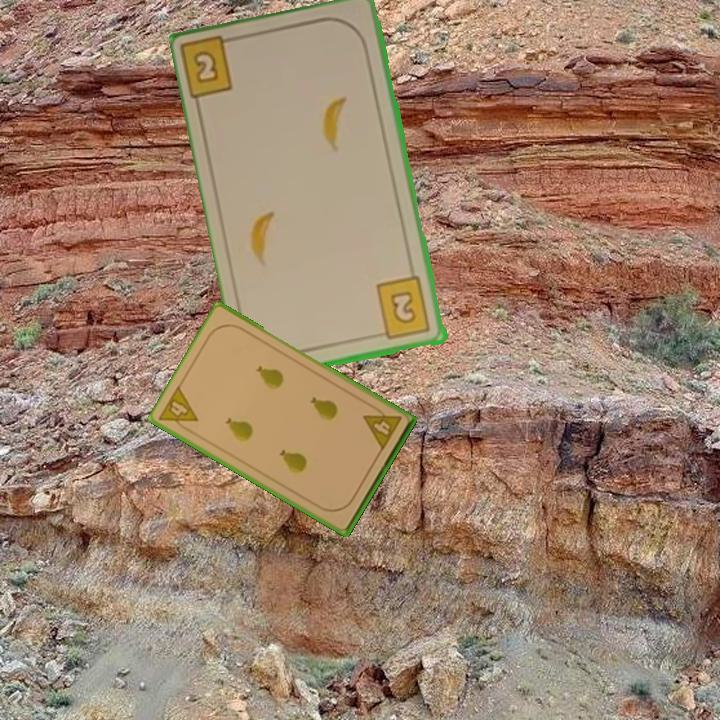2b: (180, 33, 244, 104), (373, 274, 434, 342)
4p: (155, 382, 201, 437), (360, 402, 404, 453)
